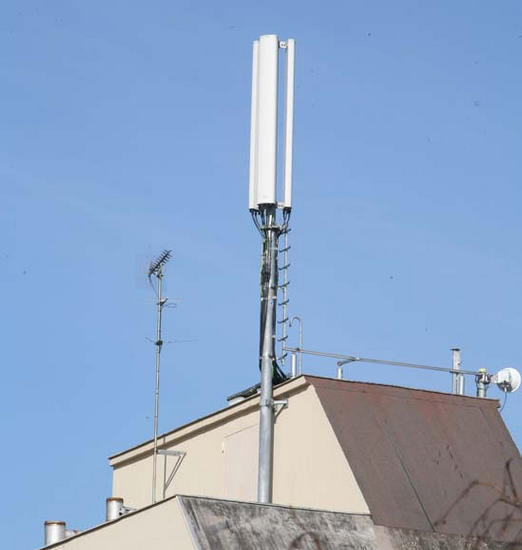a: (258, 34, 277, 204), (284, 40, 292, 208)
